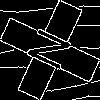N: (25, 25, 81, 77)
